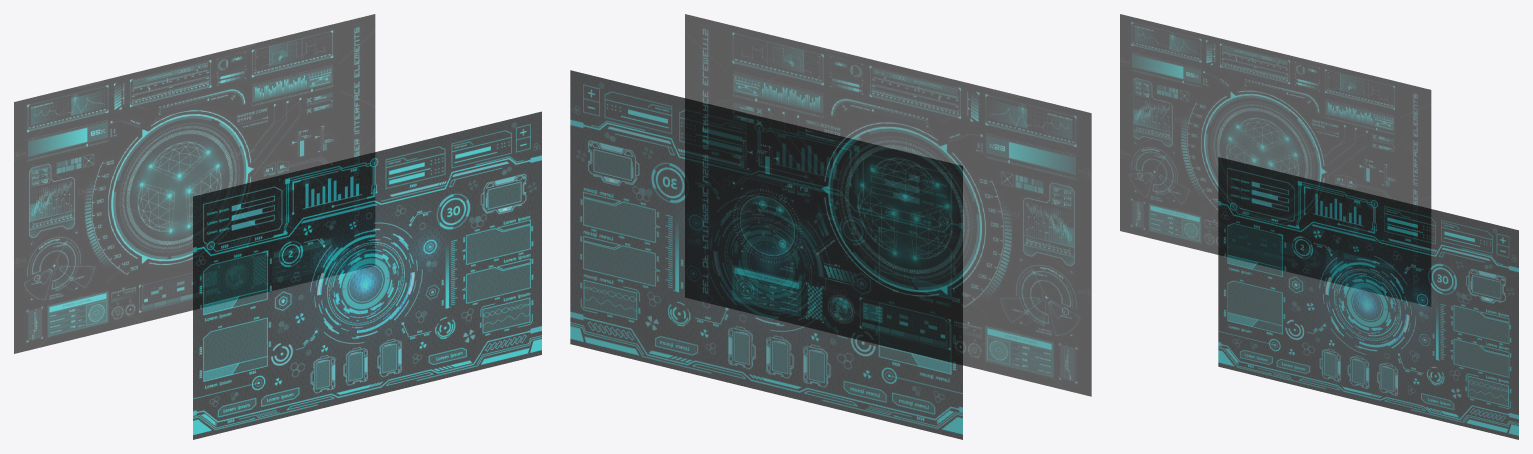
3 views of the same model, side by side, from view 1: azimuth 30°, elevation 25°; view 2: azimuth 150°, elevation 25°; view 3: azimuth 330°, elevation 25° (orthographic). The views are drawn at different scales.
Parts seen in each view (by area): view 1: mesh_id32, mesh_id34; view 2: mesh_id32, mesh_id34; view 3: mesh_id32, mesh_id34.
Part boxes in pixels (x1,y1,x2,y2): mesh_id32: [14, 14, 375, 353]; mesh_id34: [193, 111, 541, 439]; mesh_id32: [685, 14, 1091, 396]; mesh_id34: [570, 70, 962, 439]; mesh_id32: [1120, 14, 1431, 305]; mesh_id34: [1218, 157, 1518, 439].
Size of the model in its own units: 0.7284 by 0.4916 by 0.0827.
Materials: 2 (2 with a texture image).
